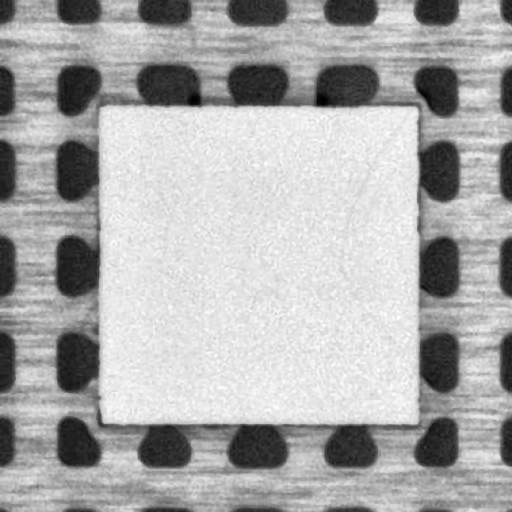DIE_CRACK: (340, 105, 409, 288)
